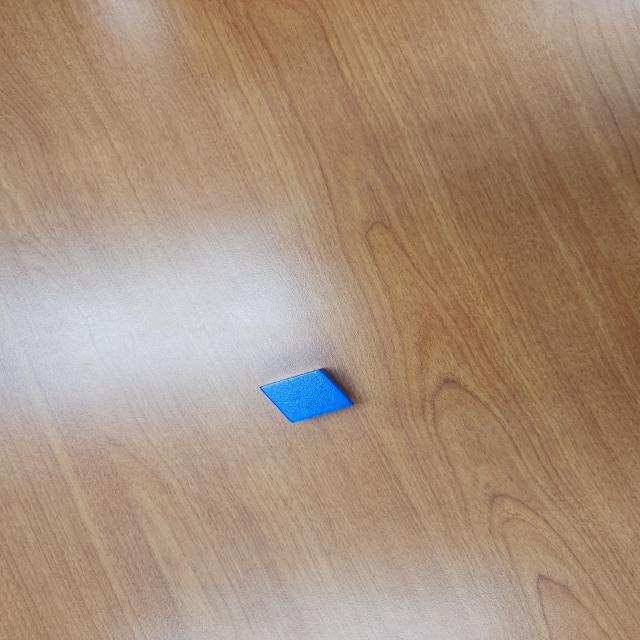blue: (258, 369, 354, 423)
